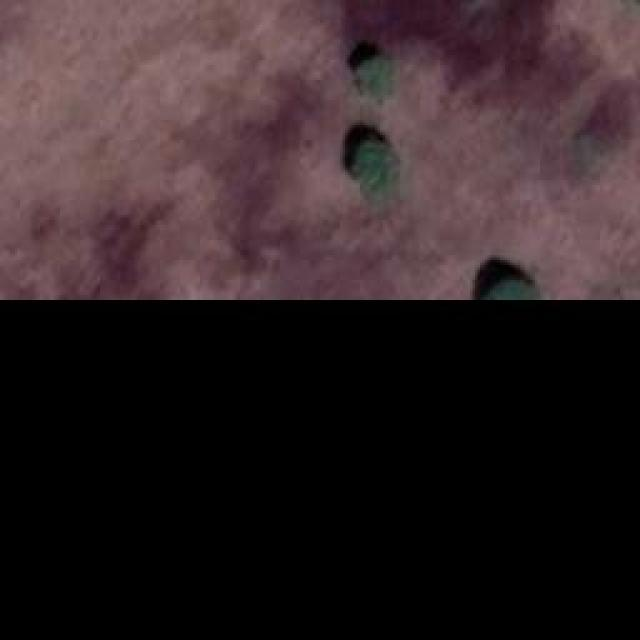Tree: (355, 55, 398, 105), (350, 140, 395, 183), (483, 275, 536, 298)
